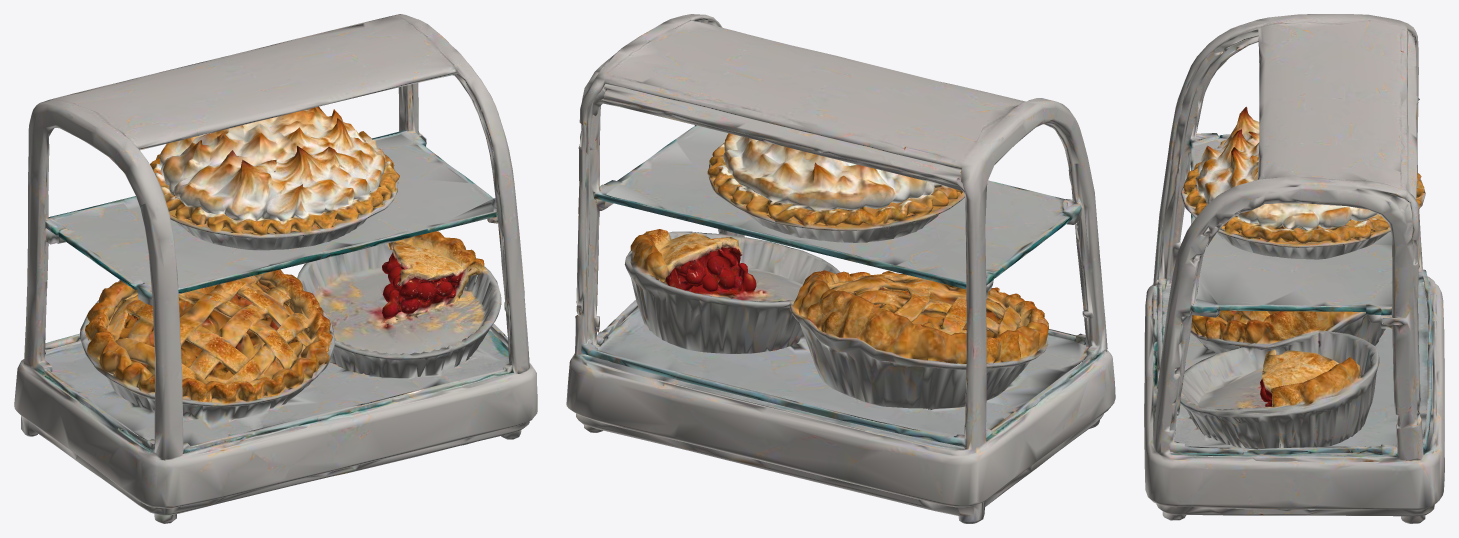
File: pie.glb
3 views of the same model, side by side, from view 1: azimuth 30°, elevation 25°; view 2: azimuth 150°, elevation 25°; view 3: azimuth 270°, elevation 25° (orthographic). The views are drawn at different scales.
Size of the model in its own units: 1.9 by 1.56 by 1.26.
Materials: 1 (1 with a texture image).
